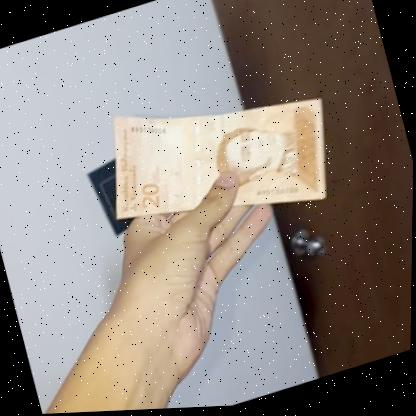twenty-front-vef: (87, 55, 347, 262)
